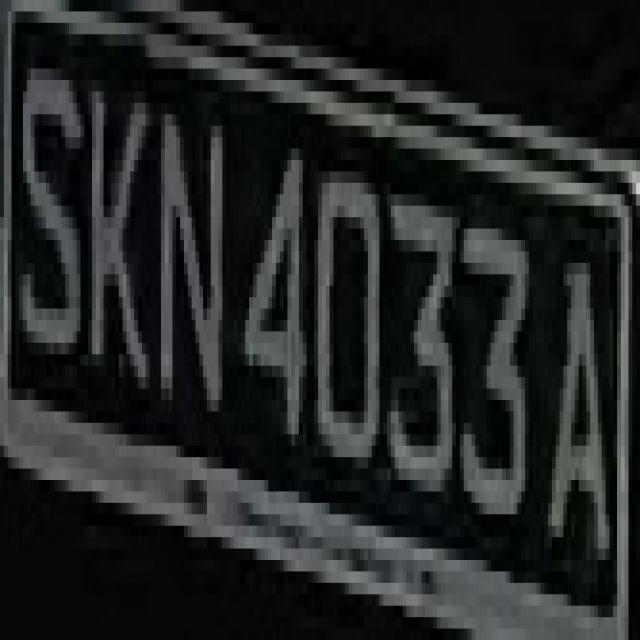0: (310, 114, 387, 503)
3: (441, 160, 525, 583), (376, 148, 452, 548)
4: (226, 114, 318, 469)
A: (537, 206, 617, 594)
K: (76, 34, 146, 446)
N: (142, 80, 234, 469)
S: (8, 34, 80, 423)
